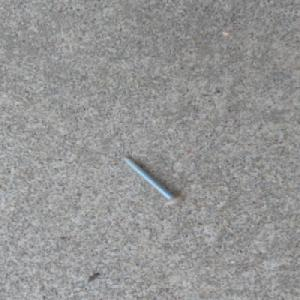Screw: (120, 154, 185, 205)
